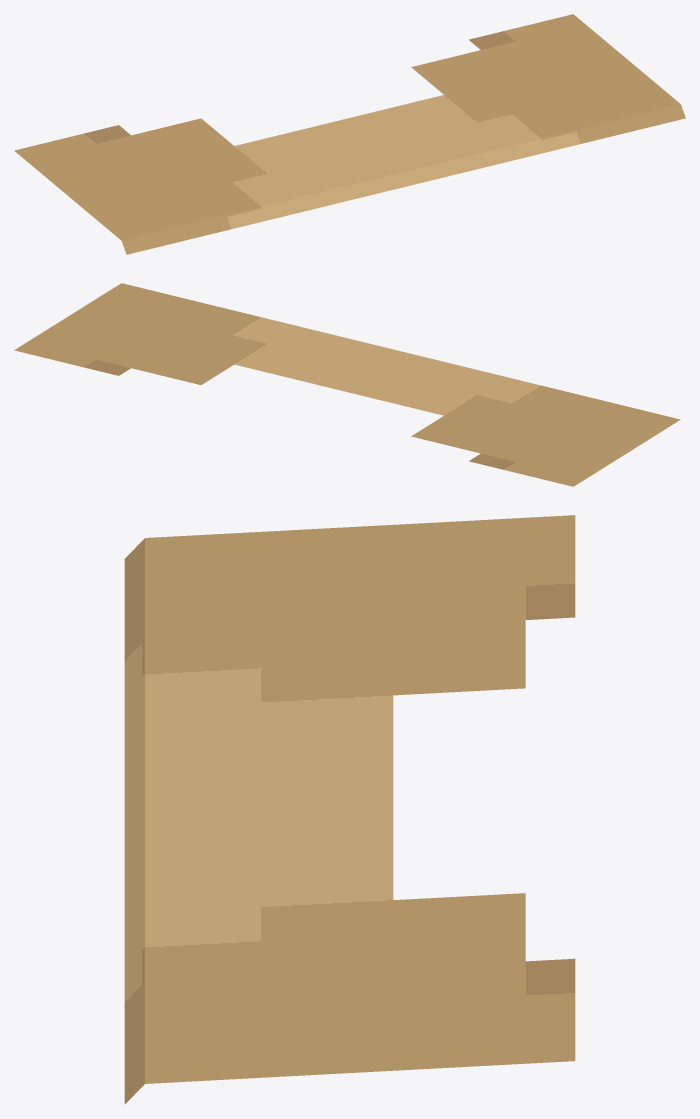
The picture shows the model from 3 angles, top to bottom: view 1: azimuth 30°, elevation 25°; view 2: azimuth 150°, elevation 25°; view 3: azimuth 270°, elevation 25°; orthographic projection. The views are drawn at different scales.
Size of the model in its own units: 1 by 0.0373 by 0.3486.
1 material, 1 textured.
